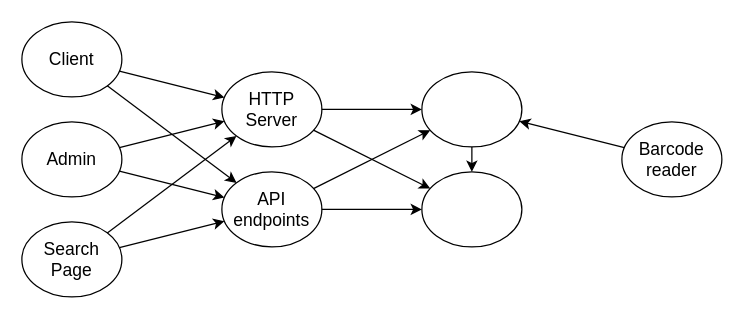
Image size: 744x319. Some labels were removed from this diagram. The centre of each missing label's shape, as x and y in pixels:
"Database" goes at point 471,109.
"Printer" goes at point 471,209.
